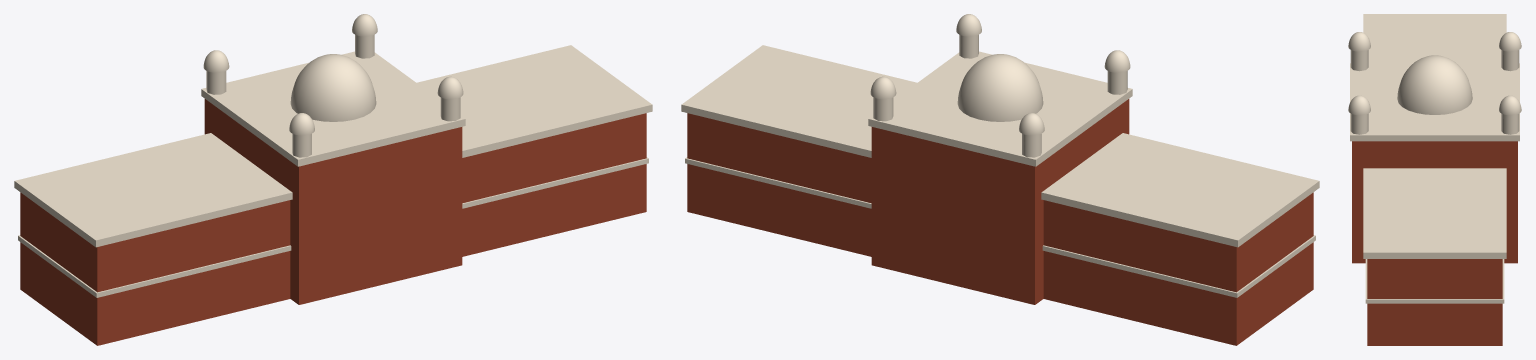
The model's file is curzon-hall.glb.
3 views of the same model, side by side, from view 1: azimuth 30°, elevation 25°; view 2: azimuth 150°, elevation 25°; view 3: azimuth 270°, elevation 25° (orthographic). The views are drawn at different scales.
Parts seen in each view (by area): view 1: curzon-hall; view 2: curzon-hall; view 3: curzon-hall.
Boxes of the visible parts, x1=… form: curzon-hall: x1=14, y1=14, x2=652, y2=345; curzon-hall: x1=681, y1=14, x2=1319, y2=345; curzon-hall: x1=1348, y1=14, x2=1521, y2=345.
Bounding box in the file's own units: 75 × 24.9 × 23.
